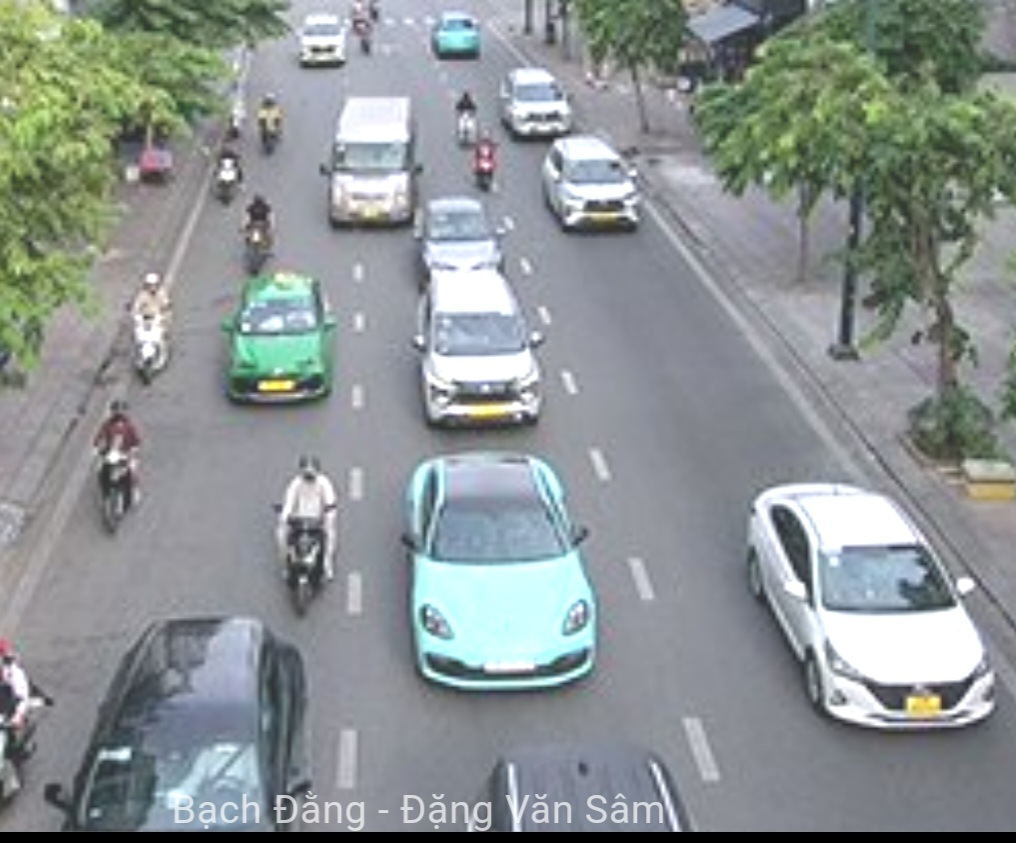car: (745, 479, 997, 730), (69, 615, 305, 834), (401, 451, 599, 687), (477, 738, 693, 843), (421, 282, 545, 430), (232, 268, 337, 406), (327, 96, 417, 234), (544, 142, 647, 235), (420, 193, 503, 275), (498, 69, 573, 143), (297, 14, 348, 69)
